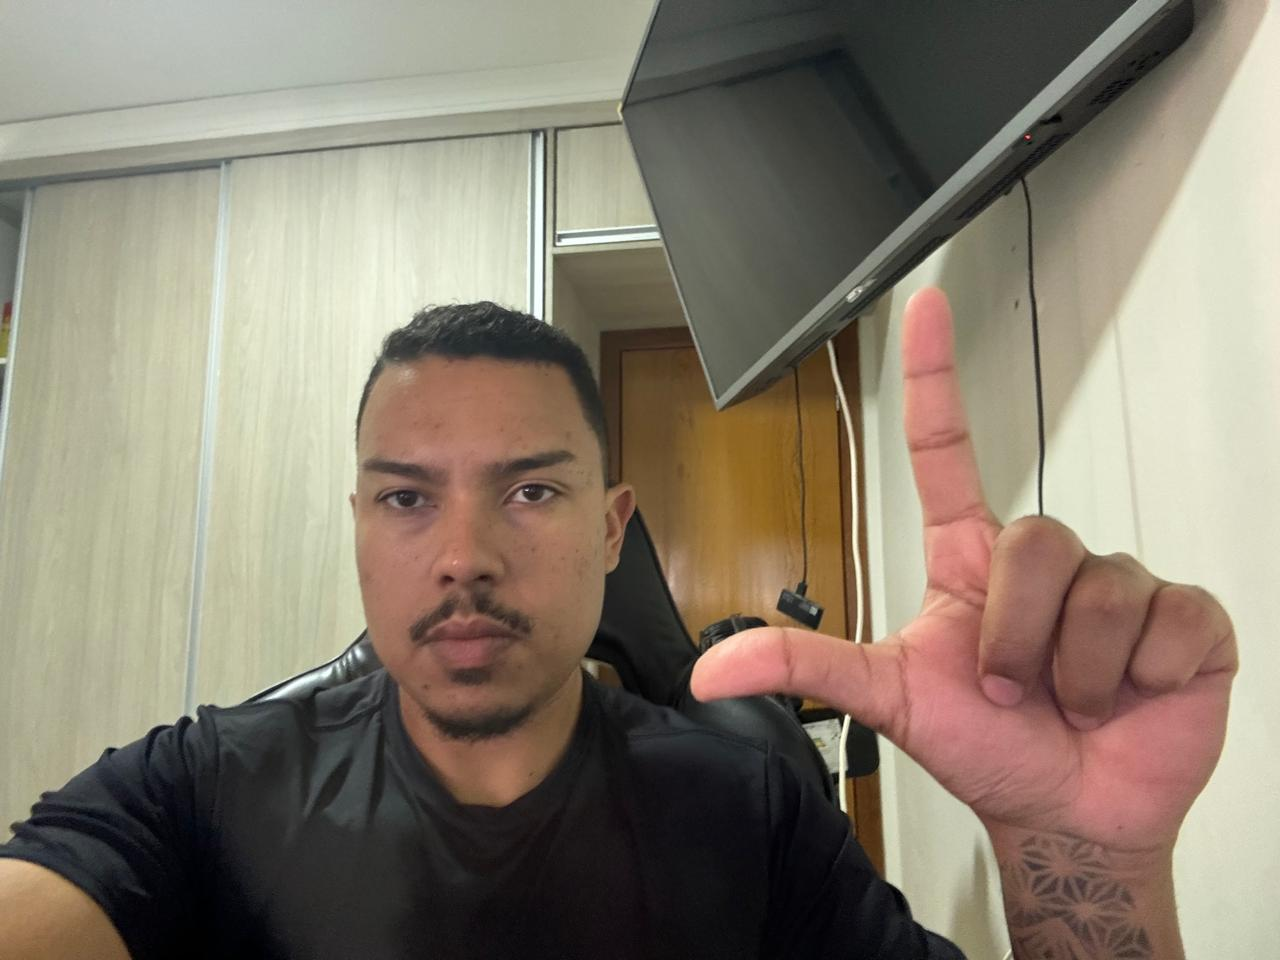l: (682, 277, 1249, 860)
